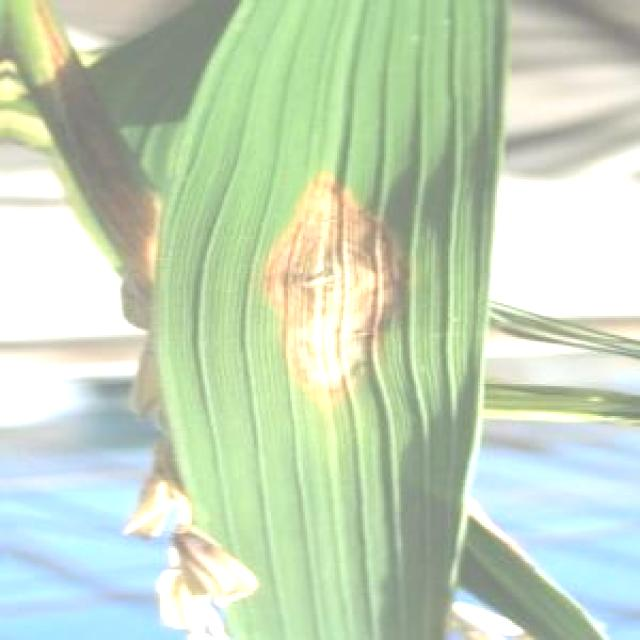Brown_Spot: (246, 166, 404, 436)
